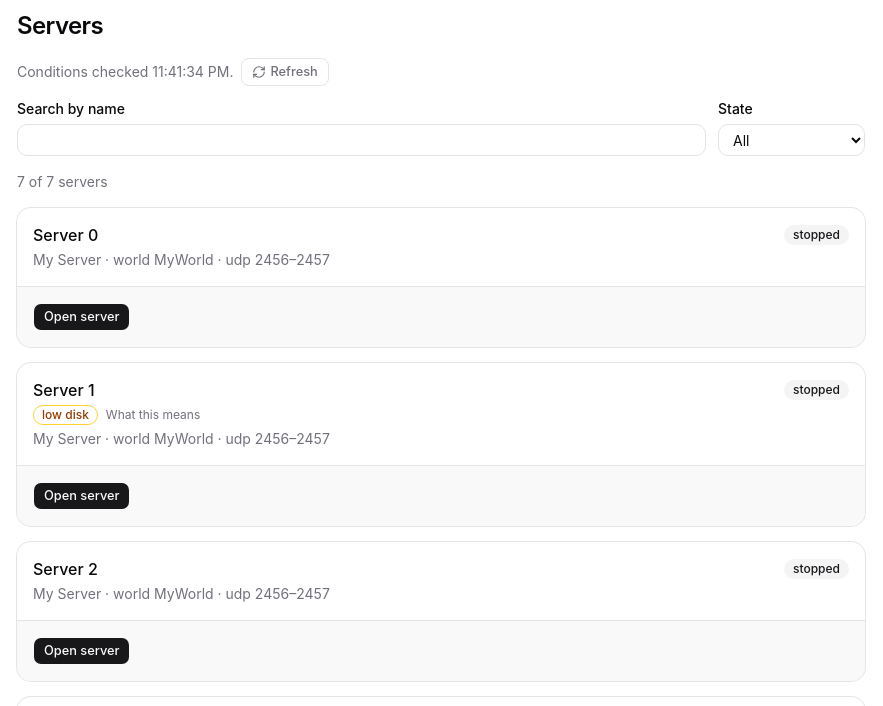
Test: searching the server list › searches by name and filters by state above six servers
The image size is (883, 706).
Expected: the text "7 of 7 servers" is shown, [17,173,108,190]
In the search field labelled "Search by name": coordinates (362, 140) [17,124,706,156], type "KEEP"
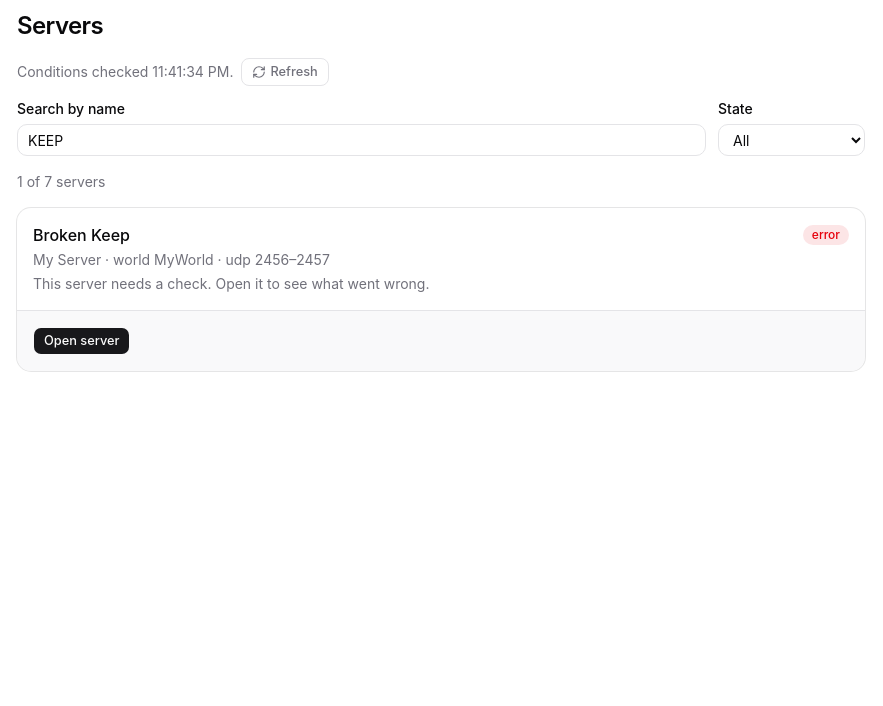
Expected: the link "Broken Keep" is shown, [33,224,130,246]
Now the text "1 of 7 servers" is shown, box [17,173,106,190]
Now the link "Server 0" is gone
Clear the search field labelled "Search by name": coordinates (362, 140) [17,124,706,156]
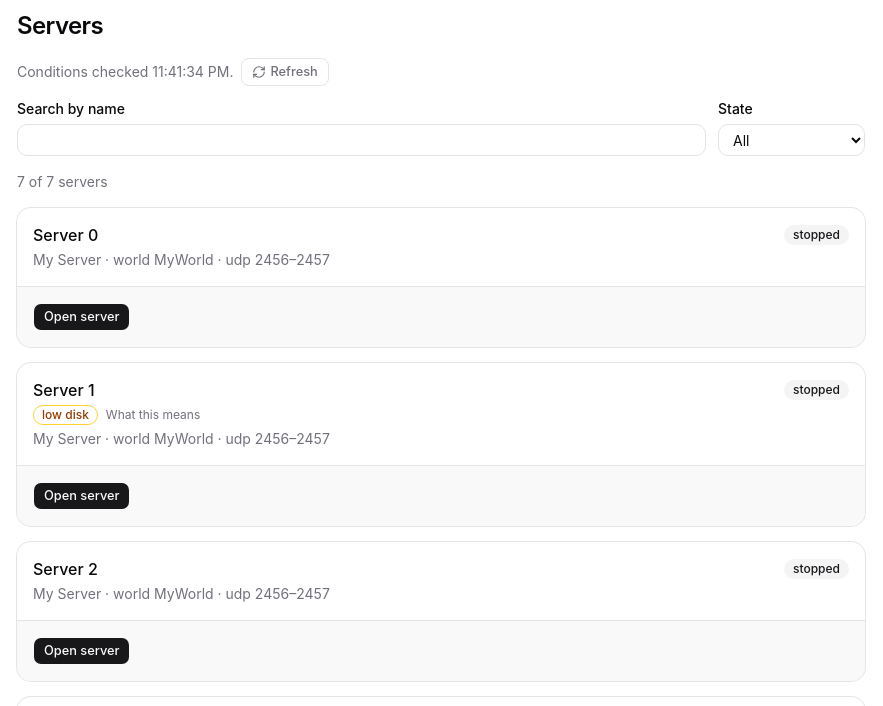
Select "Needs attention" in the dropdown labelled "State": coordinates (792, 140) [718,124,865,156]
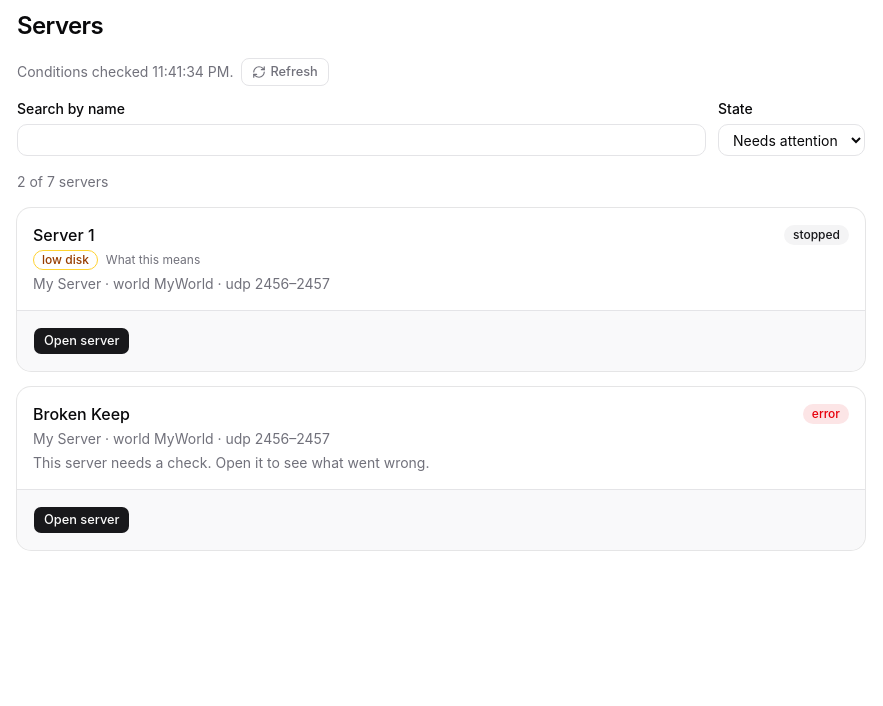
Expected: the link "Broken Keep" is shown, [33,403,130,425]
Now the link "Server 1" is shown, box [33,224,95,246]
Now the text "2 of 7 servers" is shown, box [17,173,108,190]
Select "Running" in the dropdown labelled "State": coordinates (792, 140) [718,124,865,156]
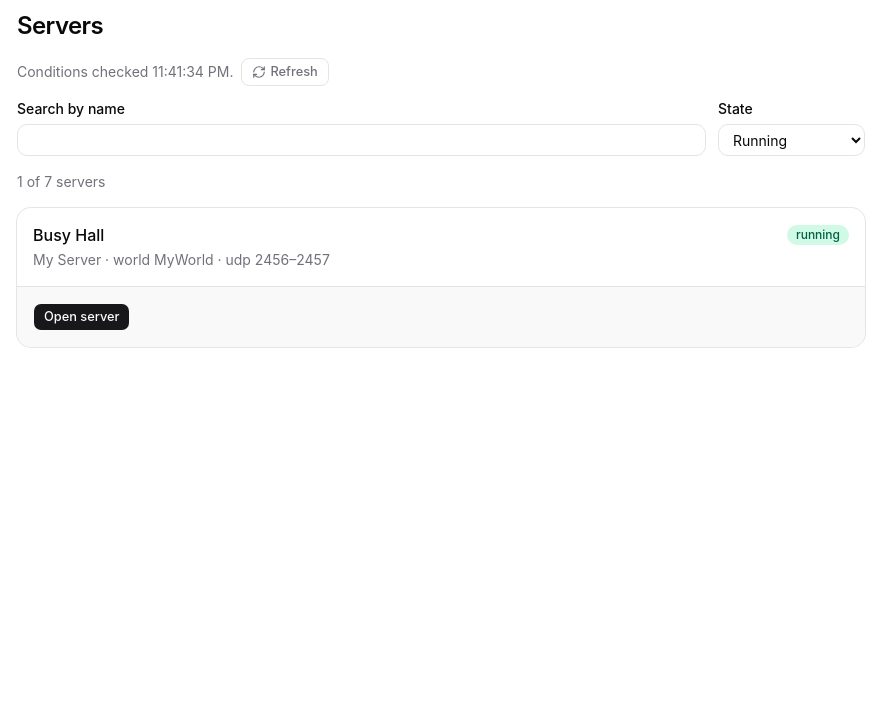
In the search field labelled "Search by name": coordinates (362, 140) [17,124,706,156], type "server"
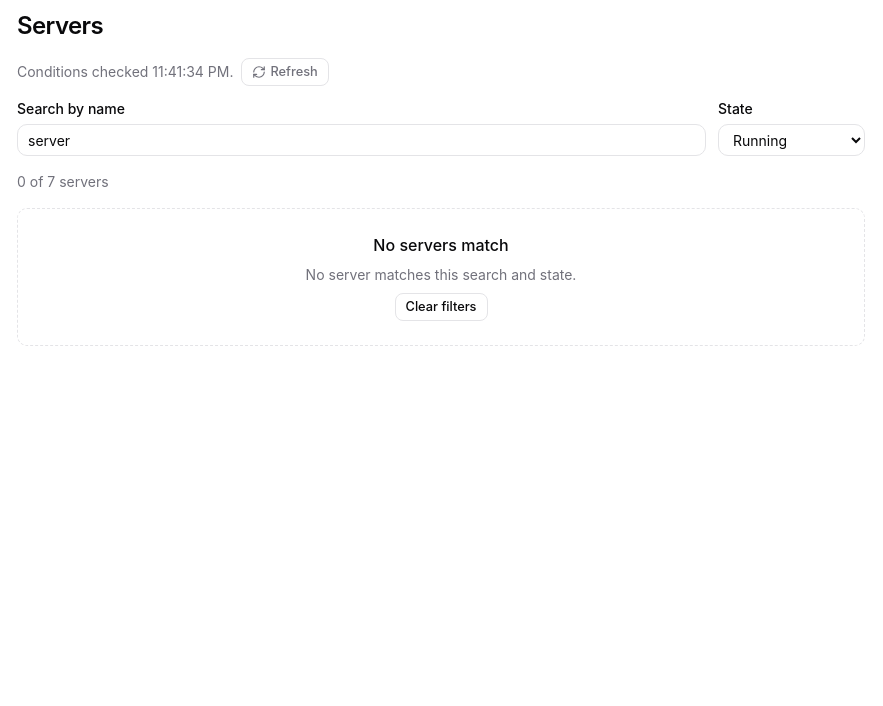
Now the text "0 of 7 servers" is shown, box [17,173,109,190]
Now the text "No servers match" is shown, box [373,233,509,257]
Click the button "Clear filters": coordinates (441, 307) [394,293,488,321]
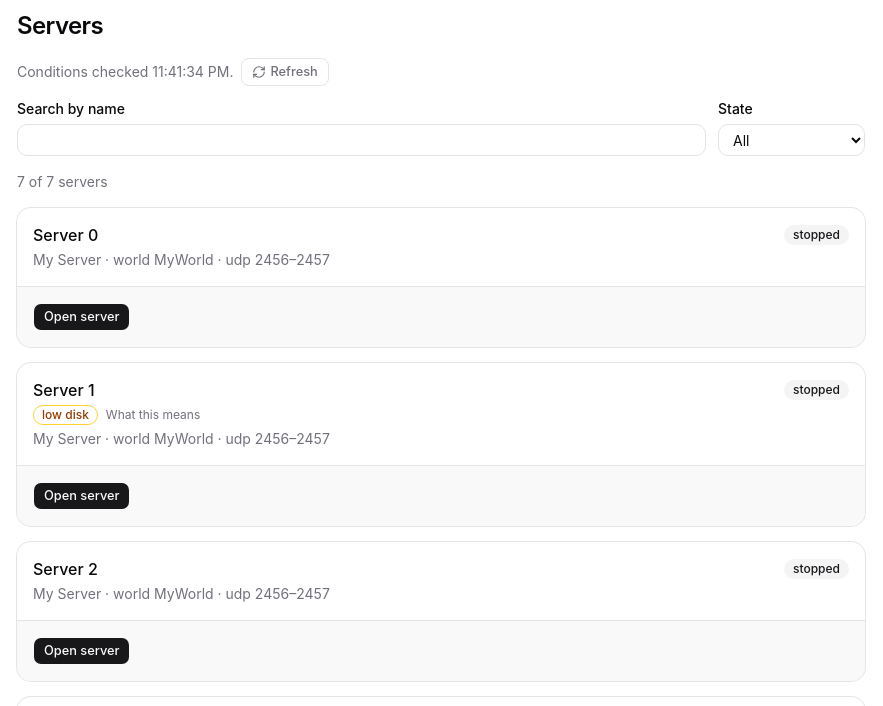
Now the text "7 of 7 servers" is shown, box [17,173,108,190]
